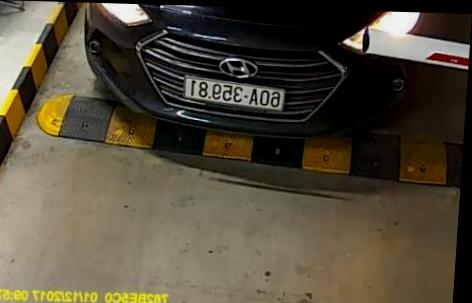License_Plate: (176, 77, 288, 111)
